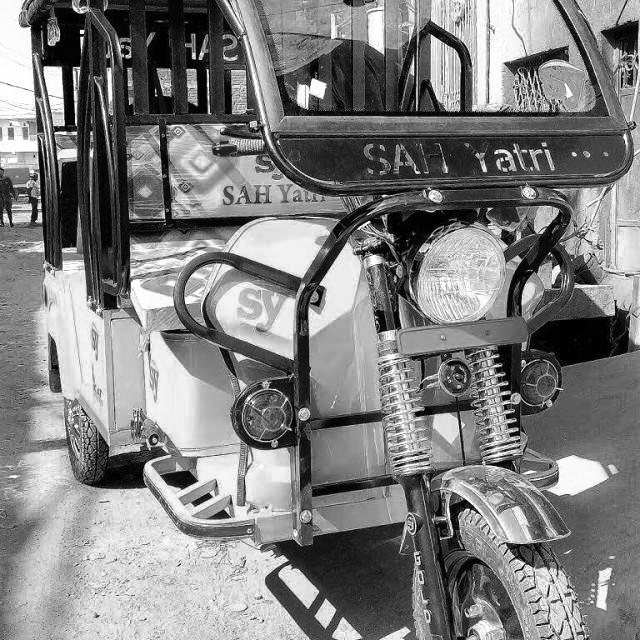Toto: (17, 0, 608, 640)
